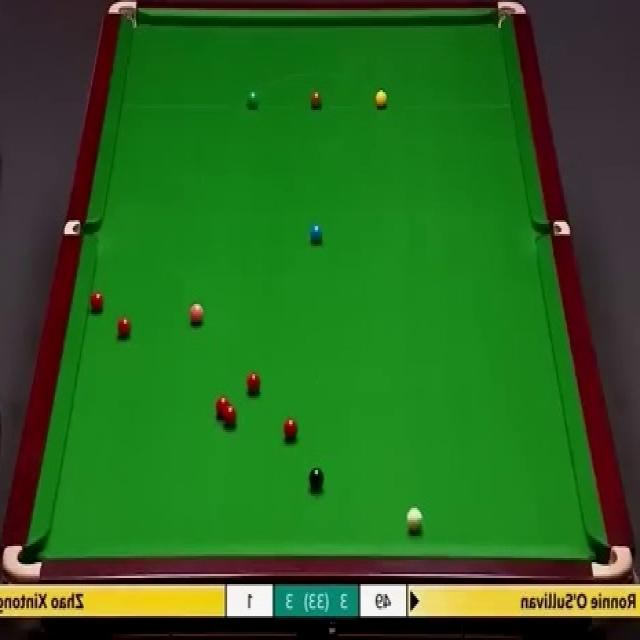pocket: (2, 545, 45, 583), (590, 545, 632, 580), (109, 0, 138, 31), (497, 0, 527, 28), (538, 218, 574, 238), (66, 220, 100, 235)
